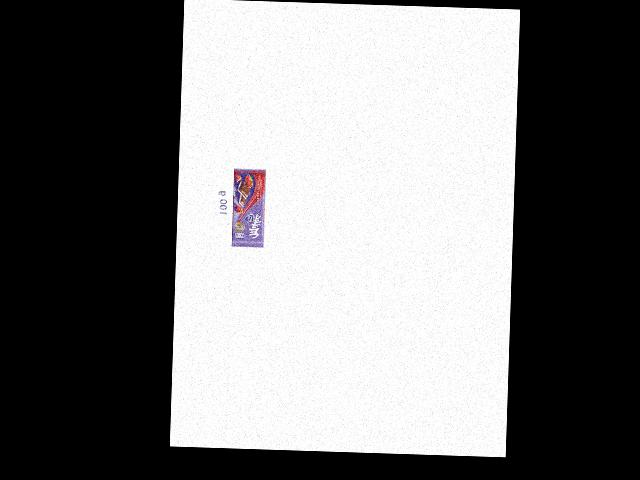chocolate: (227, 167, 266, 247)
